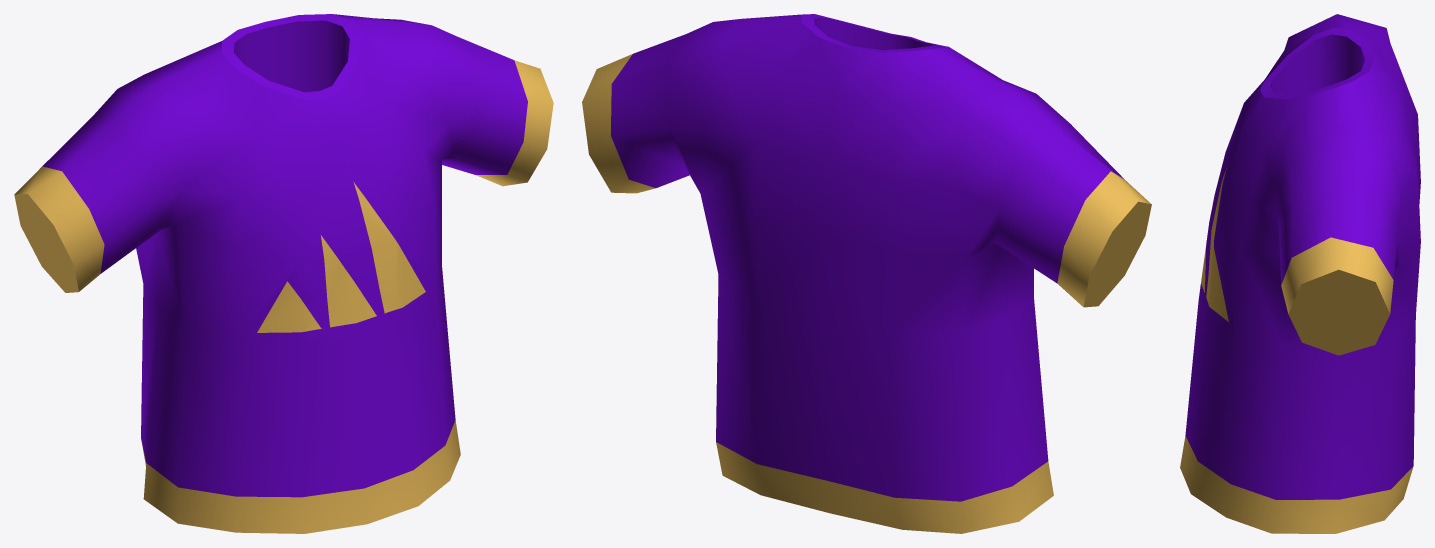
File: erkekshirt.fbx
The picture shows the model from 3 angles, left to right: view 1: azimuth 30°, elevation 25°; view 2: azimuth 150°, elevation 25°; view 3: azimuth 270°, elevation 25°; orthographic projection. The views are drawn at different scales.
Parts seen in each view (by area): view 1: erkekshirt; view 2: erkekshirt; view 3: erkekshirt.
Boxes of the visible parts, bbox=[...] form: erkekshirt: bbox=[14, 14, 553, 533]; erkekshirt: bbox=[582, 14, 1151, 533]; erkekshirt: bbox=[1180, 14, 1420, 533].
Bounding box in the file's own units: 282 × 226 × 120.
